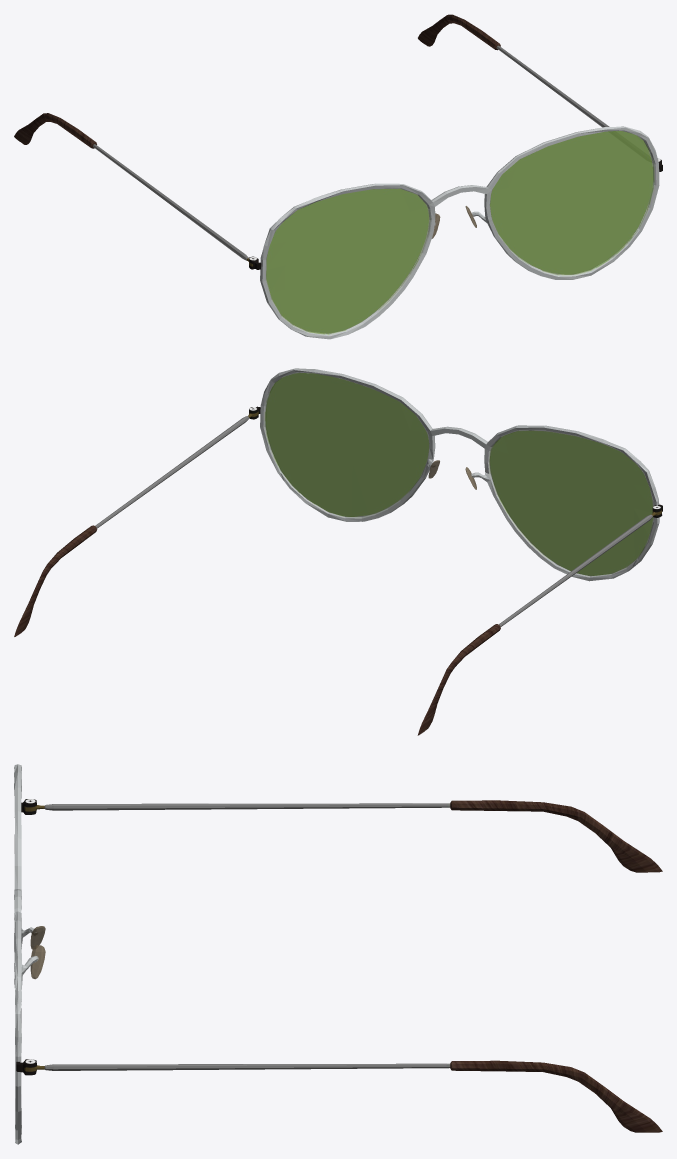
File: aviator_metal.glb
3 views of the same model, one above another, from view 1: azimuth 30°, elevation 25°; view 2: azimuth 150°, elevation 25°; view 3: azimuth 270°, elevation 25° (orthographic). The views are drawn at different scales.
Parts seen in each view (by area): view 1: RightLens, LeftLens, LeftRim, RightRim, LeftTemple, RightTemple, Bridge; view 2: RightLens, LeftLens, RightRim, LeftRim, RightTemple, LeftTemple, Bridge; view 3: LeftTemple, RightTemple, RightRim, LeftRim, Bridge, Frame.
Boxes of the visible parts, x1,y1,x2,y2 form: RightLens: [490, 131, 653, 274]; LeftLens: [266, 188, 429, 333]; LeftRim: [260, 183, 435, 339]; RightRim: [484, 126, 659, 279]; LeftTemple: [14, 113, 248, 260]; RightTemple: [418, 14, 609, 127]; Bridge: [431, 185, 488, 238]; RightLens: [265, 372, 429, 516]; LeftLens: [489, 430, 653, 576]; RightRim: [260, 368, 435, 521]; LeftRim: [484, 425, 659, 581]; RightTemple: [14, 416, 248, 636]; LeftTemple: [417, 514, 652, 735]; Bridge: [428, 426, 487, 489]; LeftTemple: [44, 800, 662, 872]; RightTemple: [44, 1060, 662, 1132]; RightRim: [15, 911, 23, 1144]; LeftRim: [14, 764, 22, 987]; Bridge: [14, 889, 45, 979]; Frame: [16, 799, 44, 1075].
Bounding box in the file's own units: 142 × 48.42 × 147.
1 material, 1 textured.
